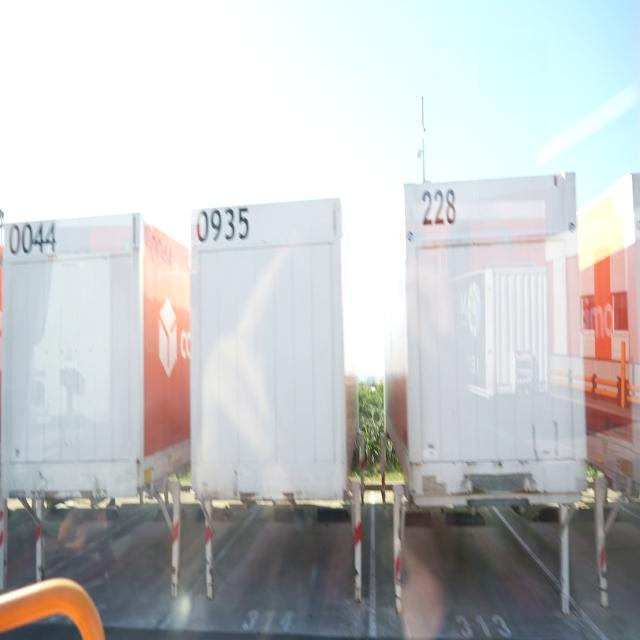Code: (191, 202, 253, 248), (7, 219, 62, 263), (417, 181, 458, 235)
